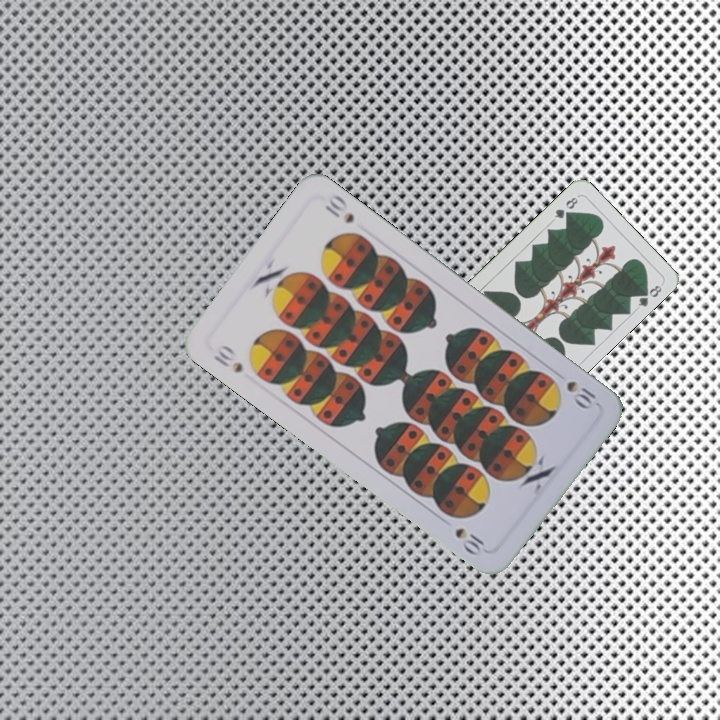G8: (550, 193, 581, 221)
S10: (209, 341, 246, 376), (562, 376, 599, 410)
